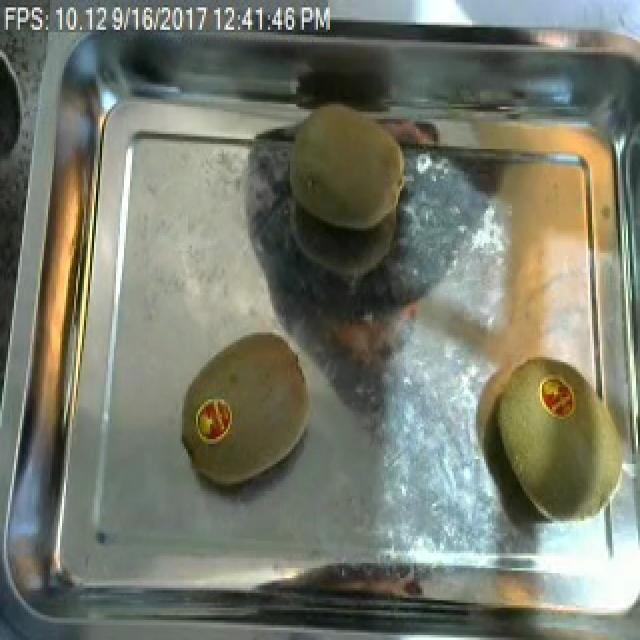Fruit: (484, 355, 640, 533), (180, 323, 320, 496), (272, 97, 418, 243)
